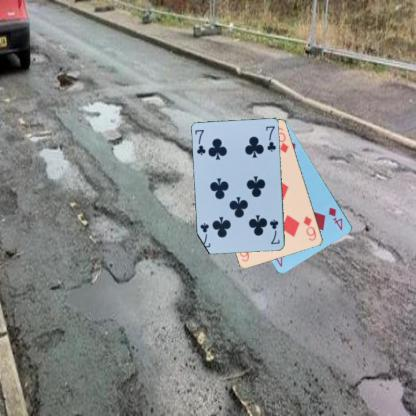4d: (326, 204, 344, 232)
6d: (301, 214, 317, 242)
7c: (267, 216, 281, 246), (193, 127, 207, 157)
